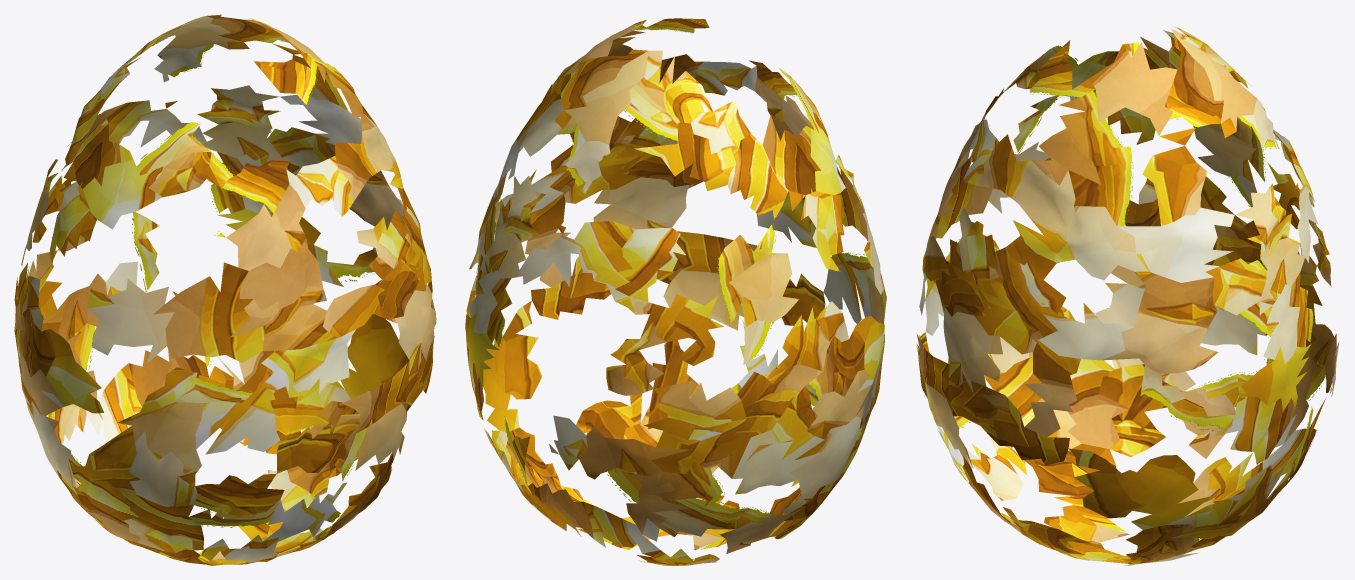
The model's file is gilded_egg_5k.fbx.
The picture shows the model from 3 angles, left to right: view 1: azimuth 30°, elevation 25°; view 2: azimuth 150°, elevation 25°; view 3: azimuth 270°, elevation 25°; orthographic projection.
Parts seen in each view (by area): view 1: gilded_egg_decimated; view 2: gilded_egg_decimated; view 3: gilded_egg_decimated.
Boxes of the visible parts, left/top/right/bottom form: gilded_egg_decimated: left=14, top=14, right=436, bottom=565; gilded_egg_decimated: left=465, top=18, right=886, bottom=565; gilded_egg_decimated: left=917, top=26, right=1339, bottom=565.
Bounding box in the file's own units: 1.4 × 1.91 × 1.41.
